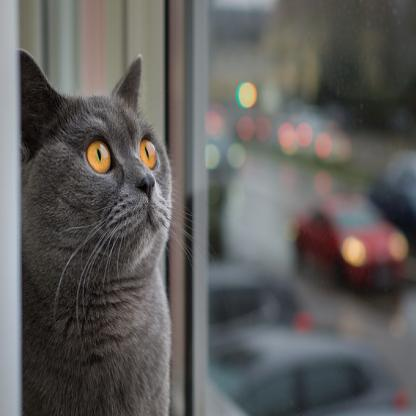cat: (20, 49, 174, 415)
